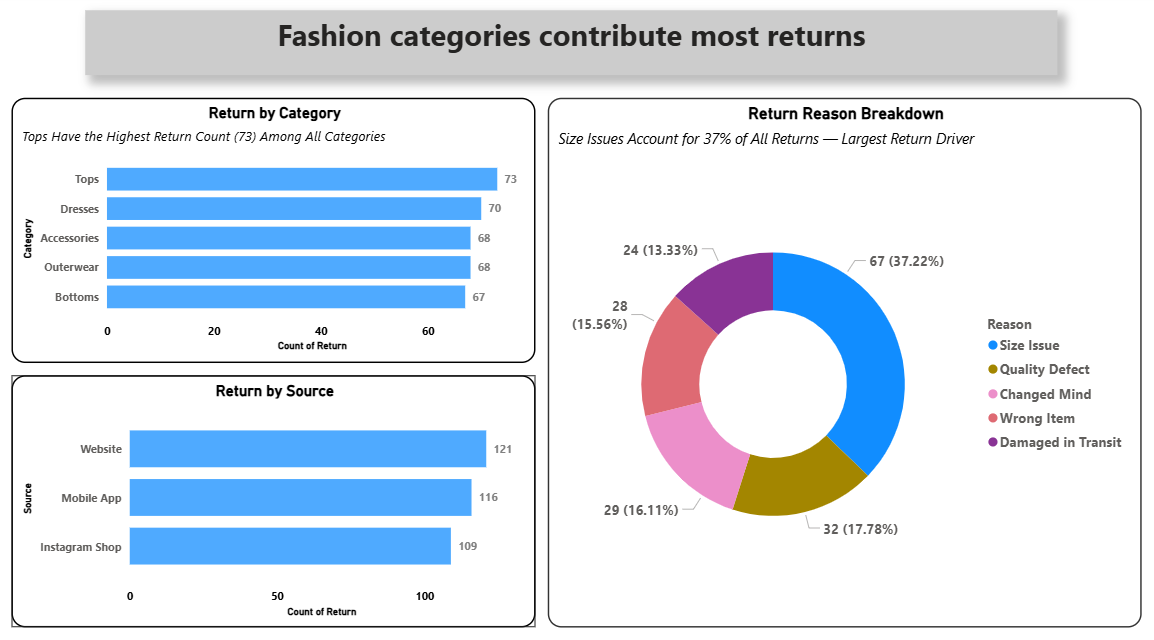

This screenshot's page, from the dashboard's own definition file:
{"tool":"powerbi","page":{"name":"Return Rates","canvas":[1280,720],"ordinal":1},"visuals":[{"type":"clusteredBarChart","title":"Return by Category","fields":{"Category":["urbanthreads_q4.Category"],"Y":["CountNonNull(urbanthreads_q4.Return?)"]},"box":[19.2,113.9,575,290.9],"z":0},{"type":"donutChart","title":"Return Reason Breakdown","fields":{"Category":["urbanthreads_q4.Reason"],"Y":["CountNonNull(urbanthreads_q4.Return?)"]},"box":[607.9,113.9,651.8,581.8],"z":1000},{"type":"textbox","box":[100.2,17.8,1067.6,71.4],"z":2000},{"type":"clusteredBarChart","title":"Return by Source ","fields":{"Y":["CountNonNull(urbanthreads_q4.Return?)"],"Category":["urbanthreads_q4.Source"]},"box":[19.2,418.5,575,277.2],"z":2001}]}

Visuals, with their boxes in screenshot pixels (x1, y1, x2, y2), scaled from the page's 1280x720 canvas onto the 1154x640 screenshot:
"Return by Category" clusteredBarChart: 17:101:536:360
"Return Reason Breakdown" donutChart: 548:101:1136:618
textbox: 90:16:1053:79
"Return by Source " clusteredBarChart: 17:372:536:618
